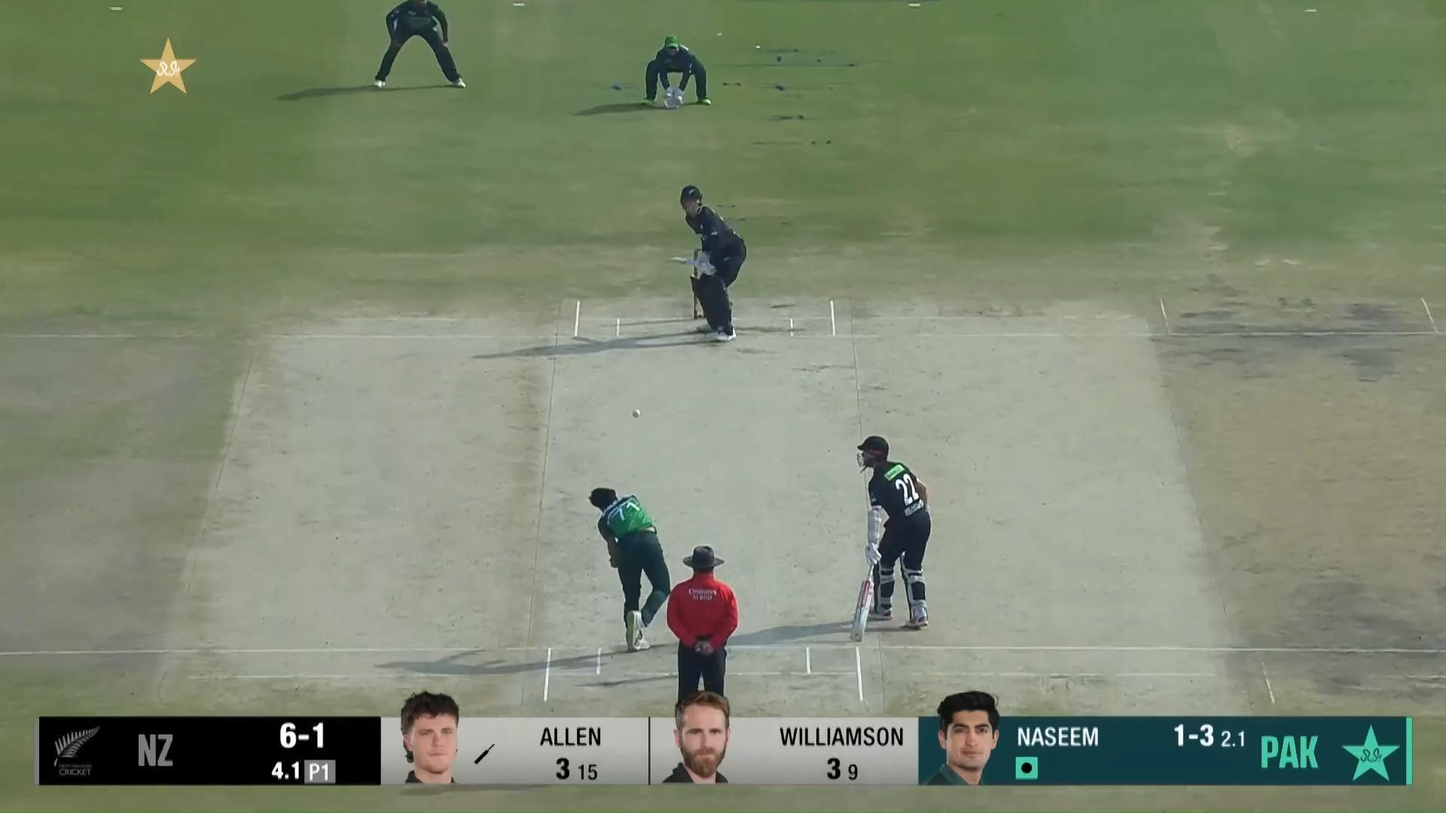BM 1: (668, 184, 746, 343)
BO: (587, 486, 674, 652)
